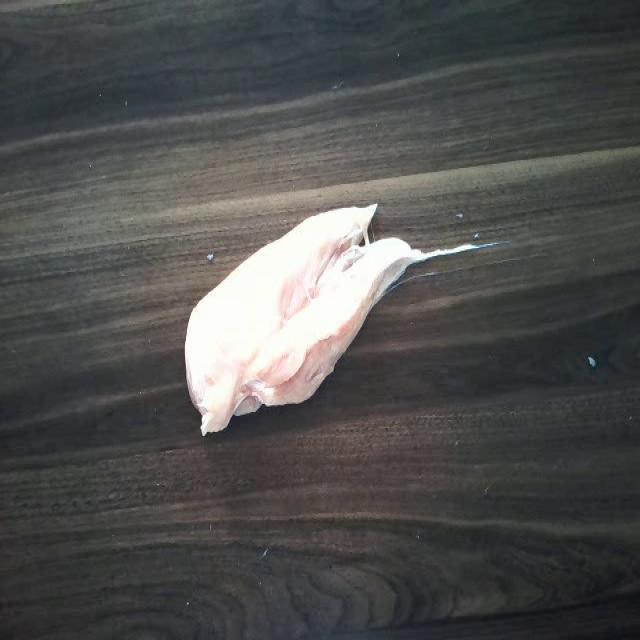breast: (180, 206, 401, 443)
